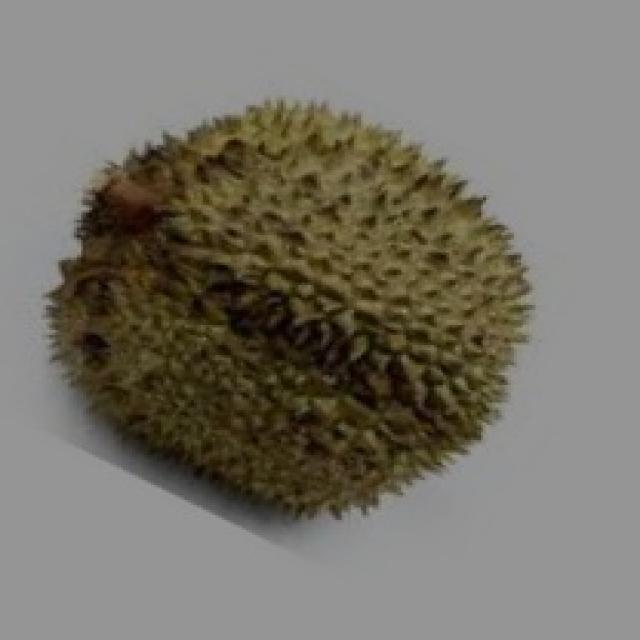fruit: (3, 152, 369, 580)
